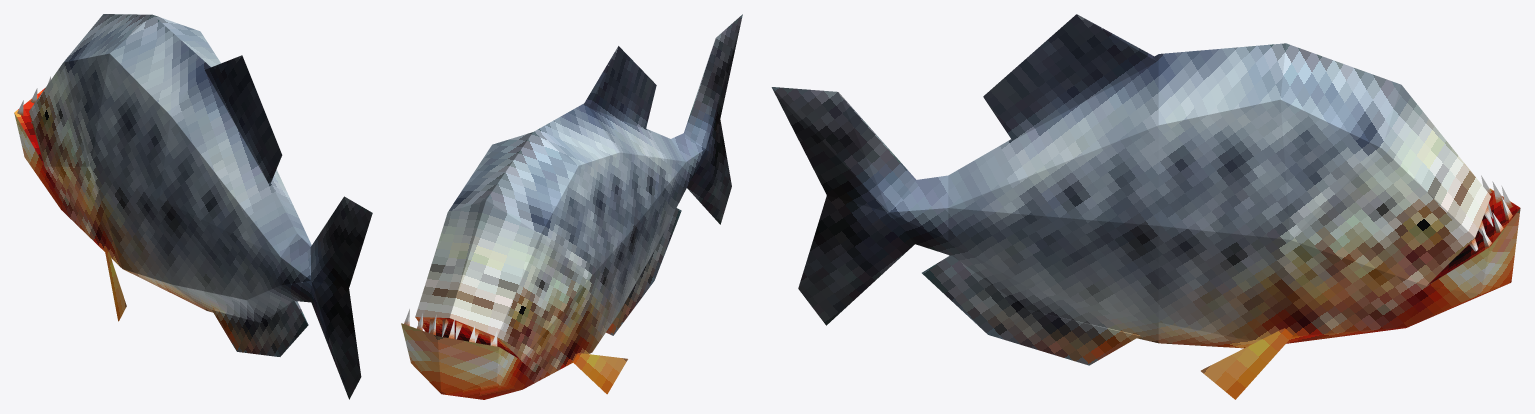
File: Piranha_Piranha.glb
3 renders of one model, left to right at view 1: azimuth 30°, elevation 25°; view 2: azimuth 150°, elevation 25°; view 3: azimuth 270°, elevation 25°, orthographic. The views are drawn at different scales.
Parts seen in each view (by area): view 1: Body, Tail1, Tail2, Jaw; view 2: Body, Tail1, Tail2, Jaw; view 3: Body, Tail1, Tail2, Jaw.
Part boxes in pixels (<box>): Body: <box>29,14,220,321</box>; Tail1: <box>159,55,311,356</box>; Tail2: <box>280,196,372,399</box>; Jaw: <box>14,76,60,208</box>; Body: <box>415,103,630,394</box>; Tail1: <box>584,46,686,335</box>; Tail2: <box>671,14,742,224</box>; Jaw: <box>401,309,522,399</box>; Body: <box>1158,43,1493,399</box>; Tail1: <box>922,14,1158,365</box>; Tail2: <box>771,87,948,325</box>; Jaw: <box>1406,175,1520,327</box>.
Size of the model in its own units: 0.1798 by 0.4116 by 0.7897.
1 material, 1 textured.
